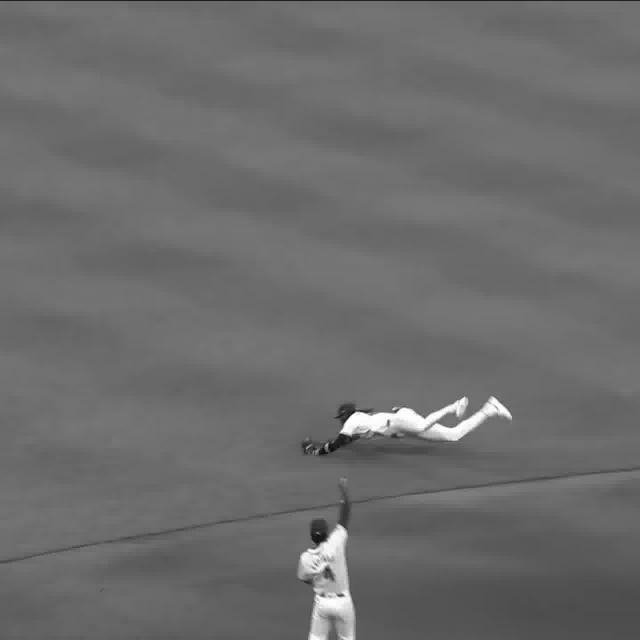baseball_glove: (302, 436, 333, 454)
shoe: (483, 396, 514, 422), (454, 397, 470, 419)
